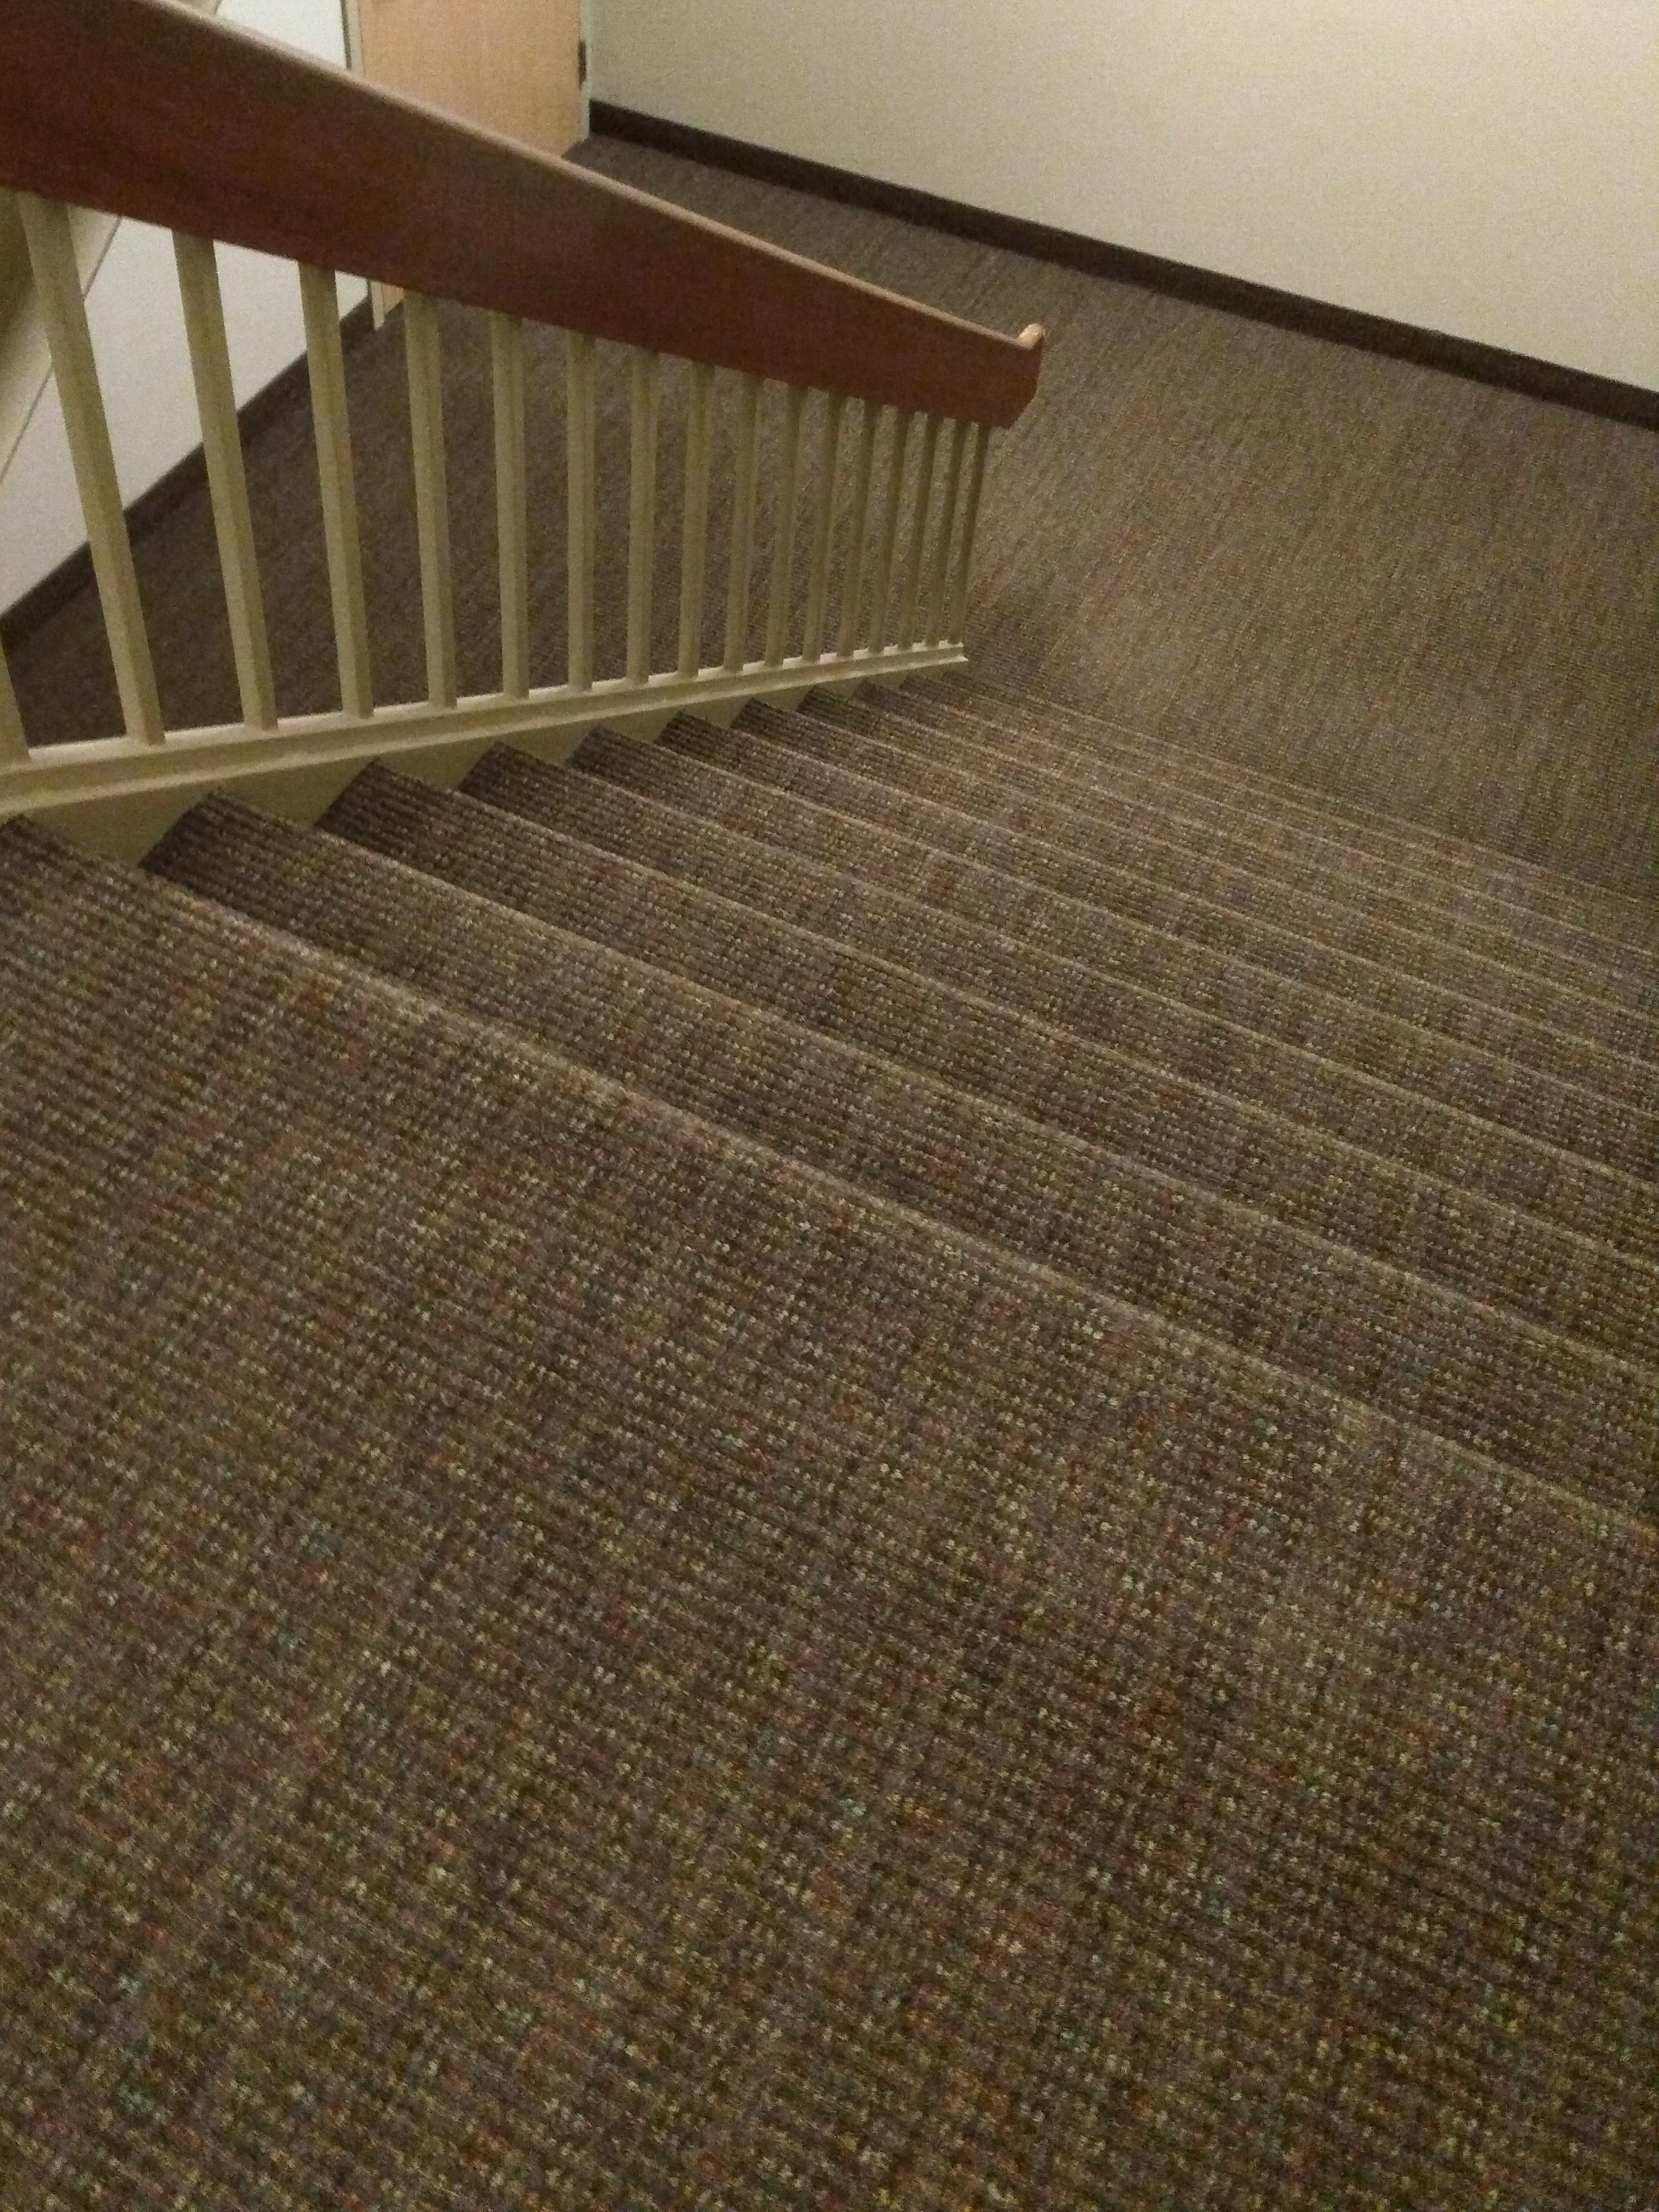stairs_down: (0, 585, 1656, 1583)
